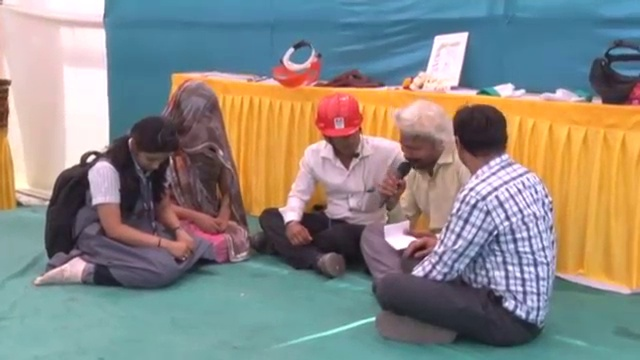helmet: (312, 101, 369, 137)
helmet_off: (446, 103, 515, 182), (393, 101, 455, 173), (165, 81, 224, 150), (121, 113, 179, 180)
helmet_on: (310, 103, 370, 165)
person: (374, 102, 563, 346), (249, 89, 411, 274), (37, 114, 204, 288), (358, 97, 474, 283), (149, 71, 250, 262)
